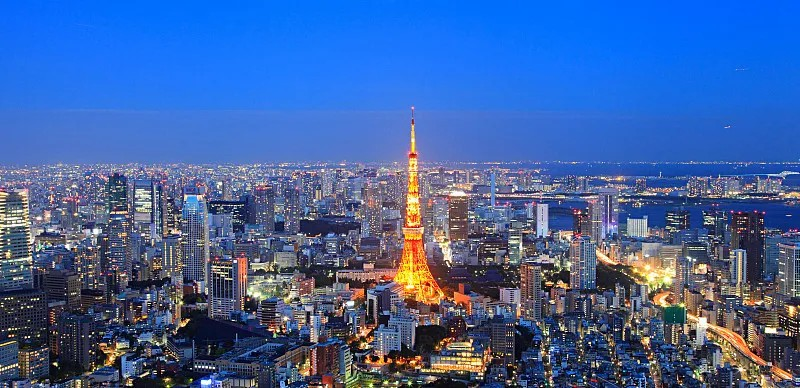Tokyo: (387, 106, 447, 304)
